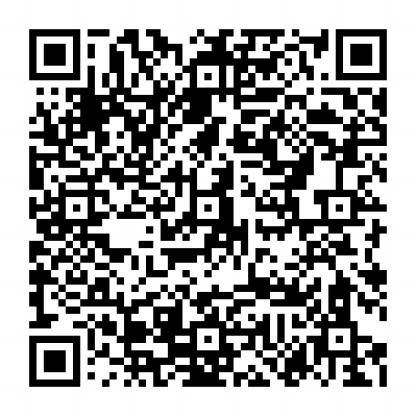qr: (25, 25, 393, 395)
